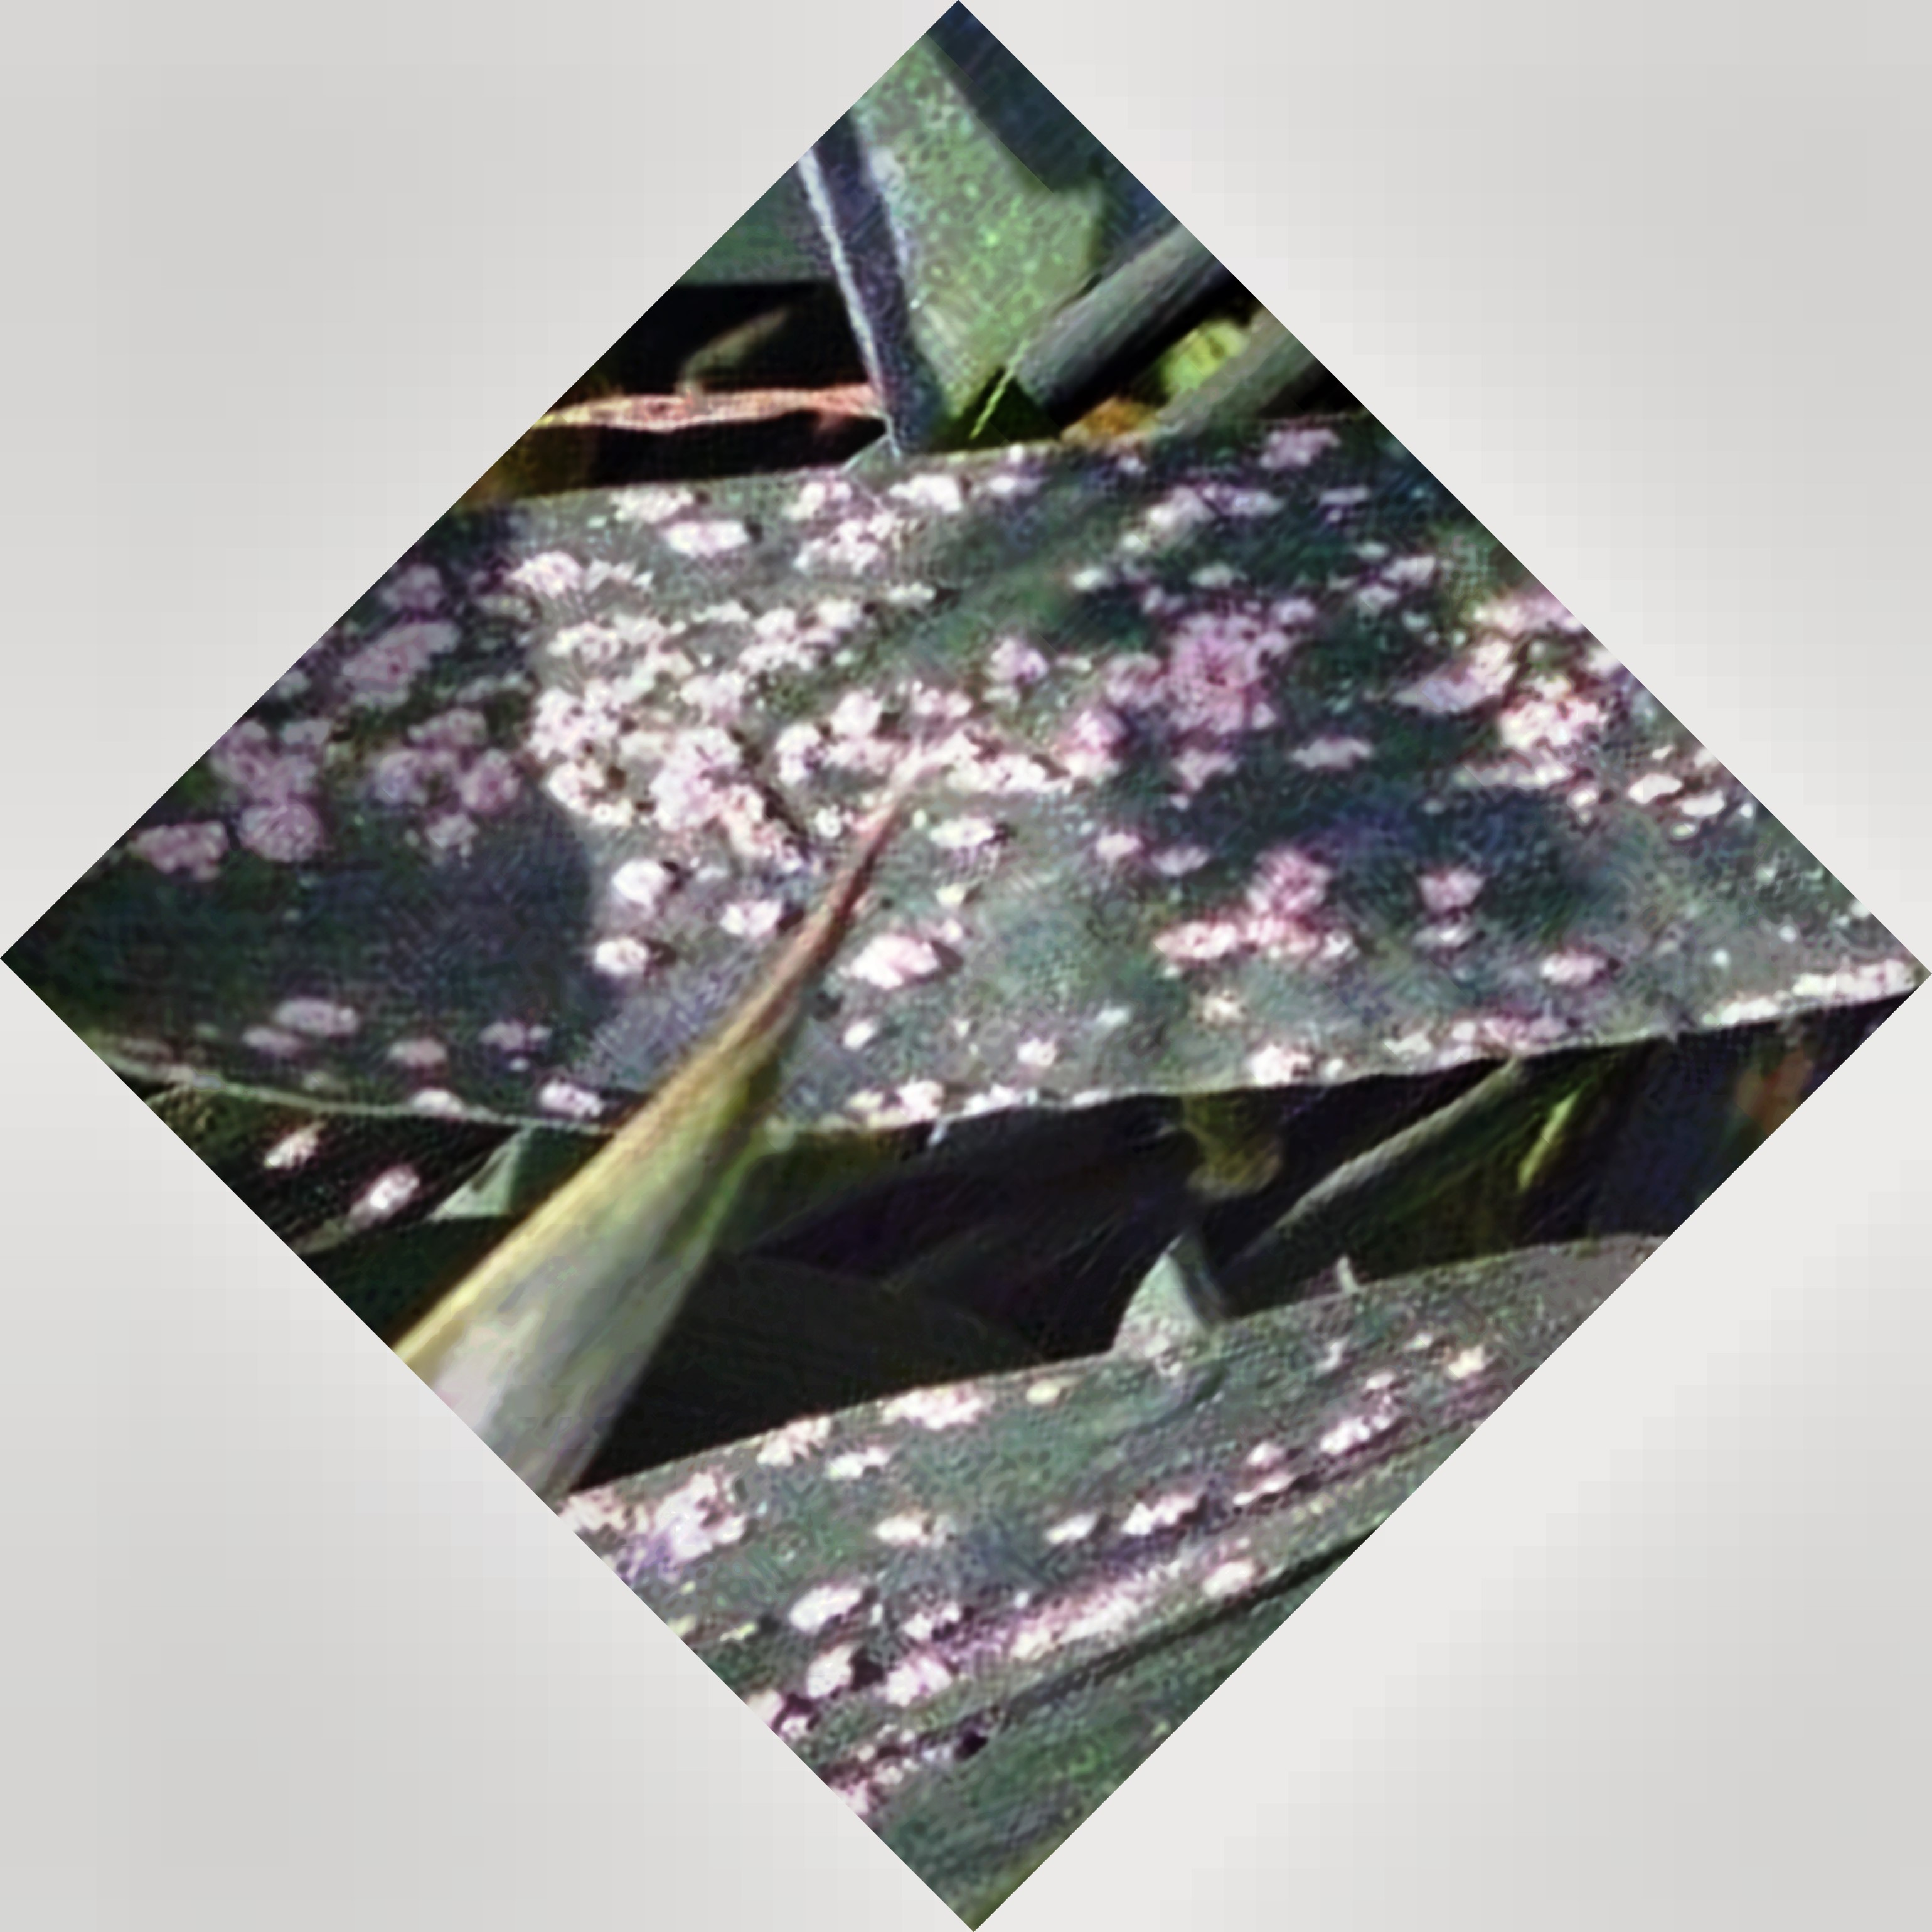Powdery Mildew: (318, 395, 1637, 1099)
